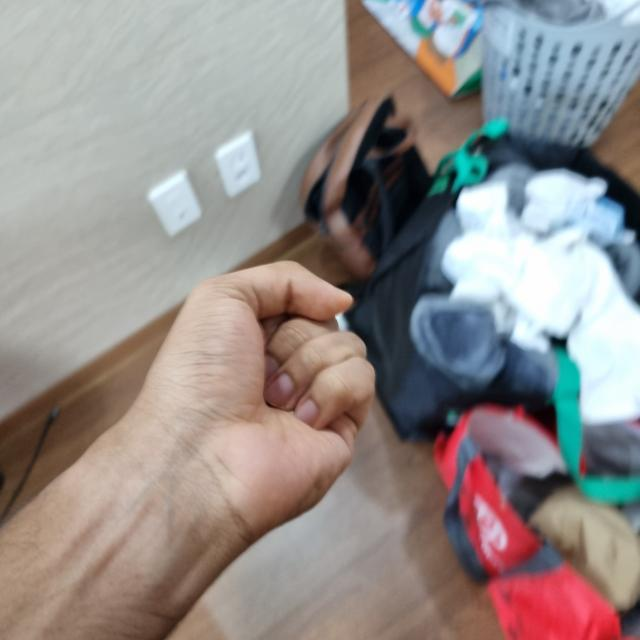Rock: (0, 253, 373, 640)
